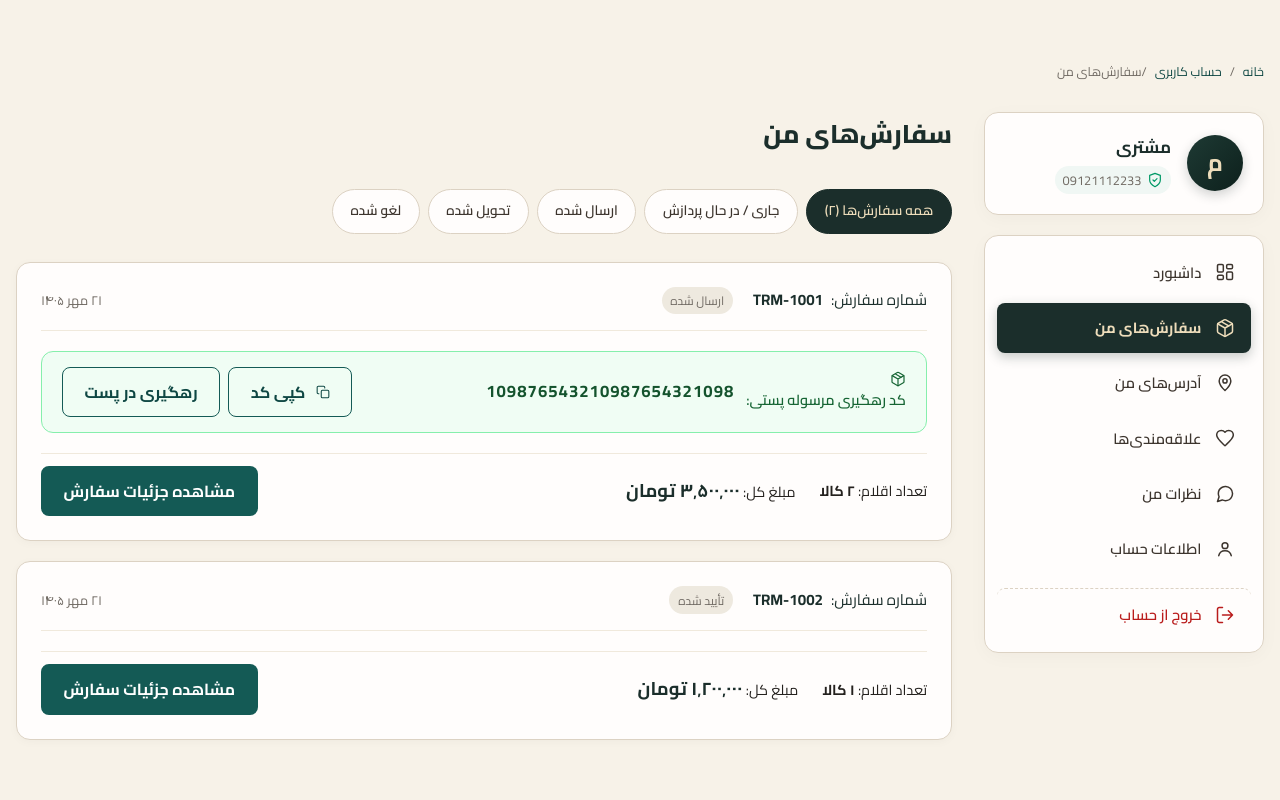
Test: AccountOrdersClient › renders order list with tracking numbers and tabs
The width and height of the screenshot is (1280, 800).
Check: the text "TRM-1001" is shown, box [753,287,823,314]
Check: the text "TRM-1002" is shown, box [753,587,823,614]
// Filter to shipped
Click the button "ارسال شده" at (587, 211), box [537,189,636,234]
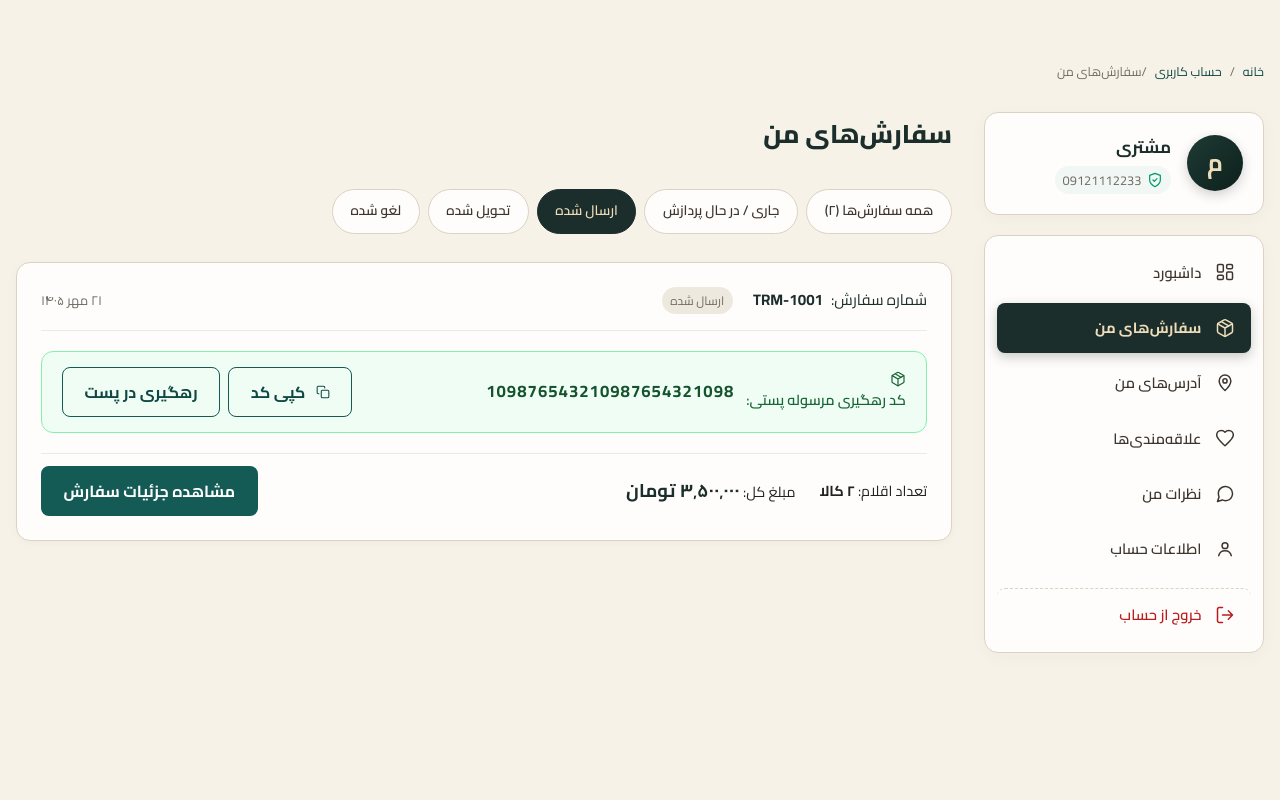
Check: the text "TRM-1001" is shown, box [753,287,823,314]
Check: the text "TRM-1002" is gone
